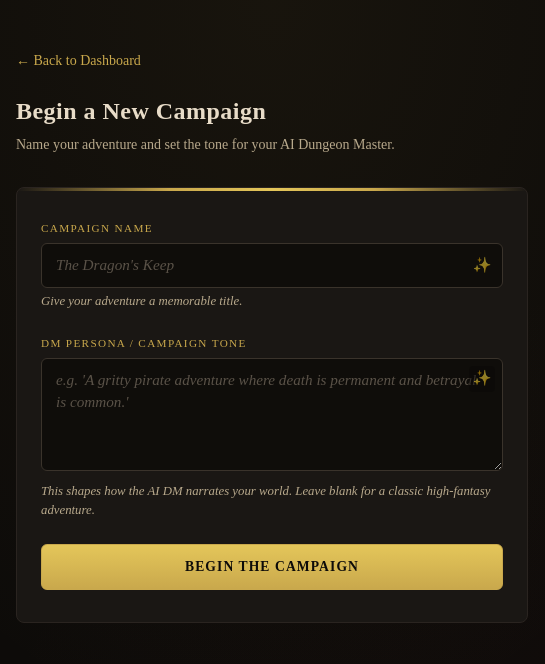
Test: CreateGameForm › Zod validation › shows error when name is empty
Click the button with test id "submit-button". click: (272, 567)
box: [41, 544, 503, 590]
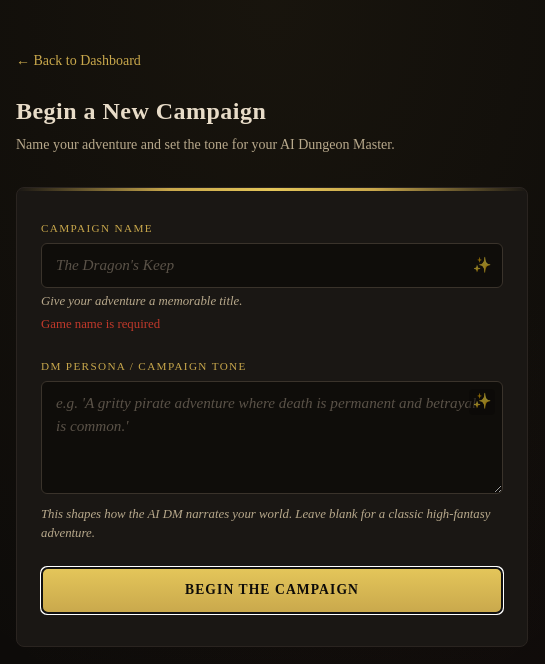
Expected: the text "Game name is required" is shown, [41, 317, 160, 331]
